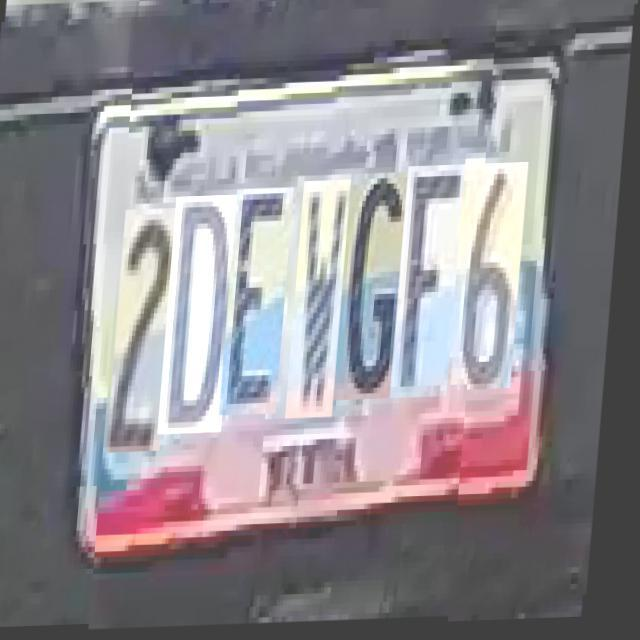2: (114, 209, 183, 454)
6: (454, 160, 532, 388)
D: (165, 197, 244, 436)
E: (226, 190, 297, 418)
F: (397, 168, 468, 402)
G: (340, 175, 418, 403)
W: (292, 182, 354, 420)
